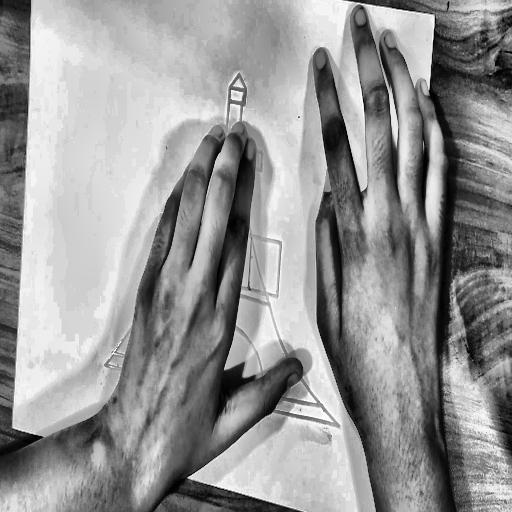bottom_left: (9, 423, 15, 433)
eiffel-tower: (95, 43, 367, 433)
top_right: (432, 11, 438, 21)
